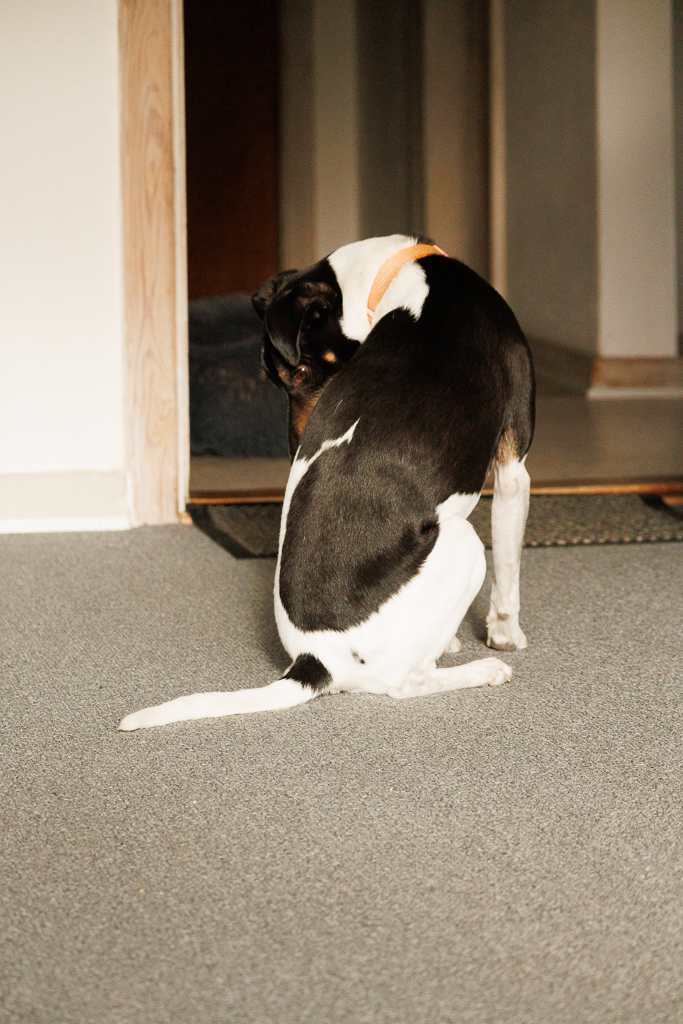Dog: (93, 222, 567, 751)
